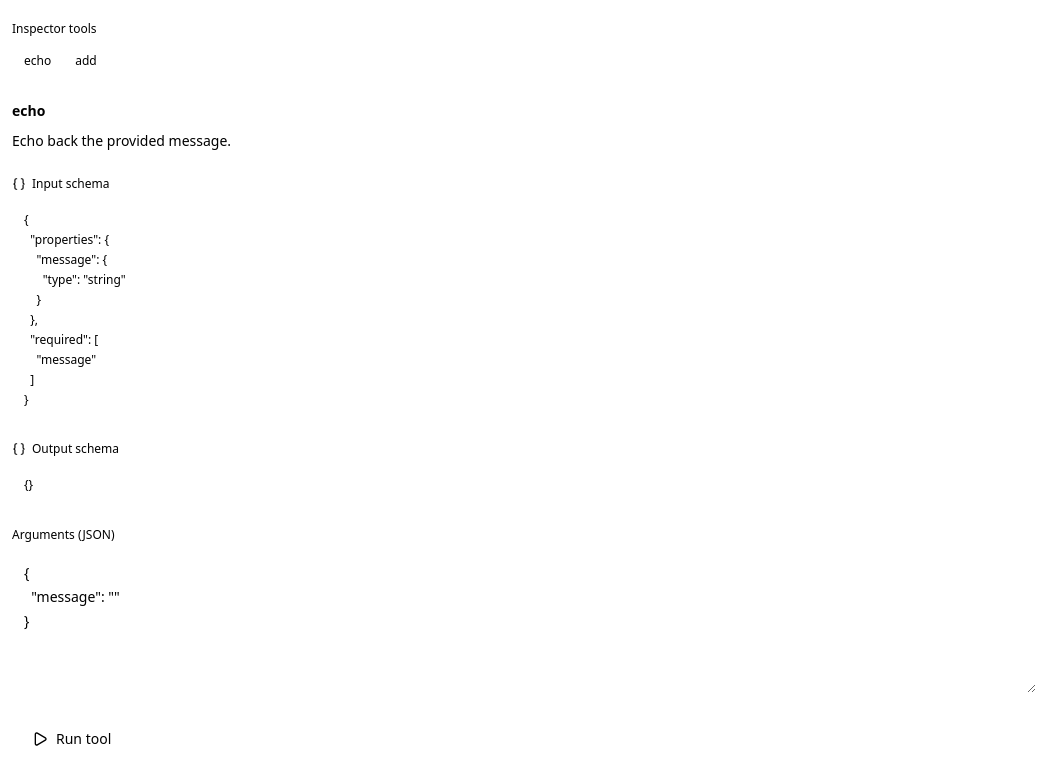
Scenario: ToolPlayground › runs a tool through the workspace-scoped console action and shows the result
(page scrolled)
Click the button "Run tool": x=72, y=739 [12, 719, 131, 758]
(page scrolled)
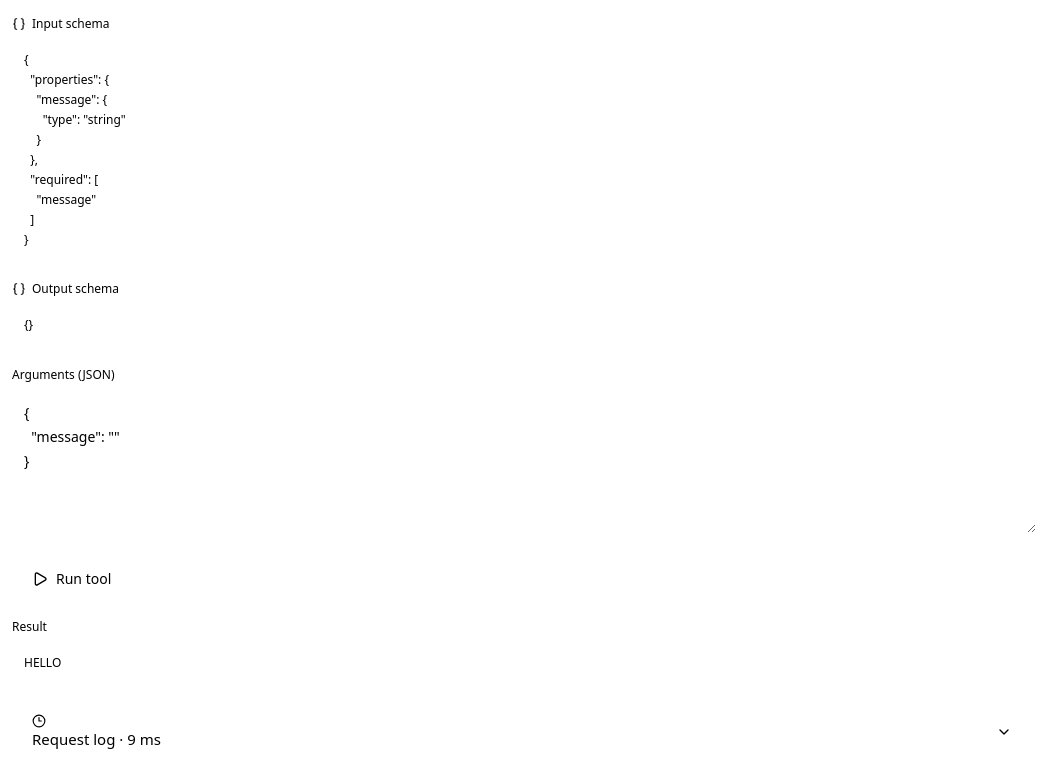
Check: the text "HELLO" is shown, box [24, 654, 61, 671]
